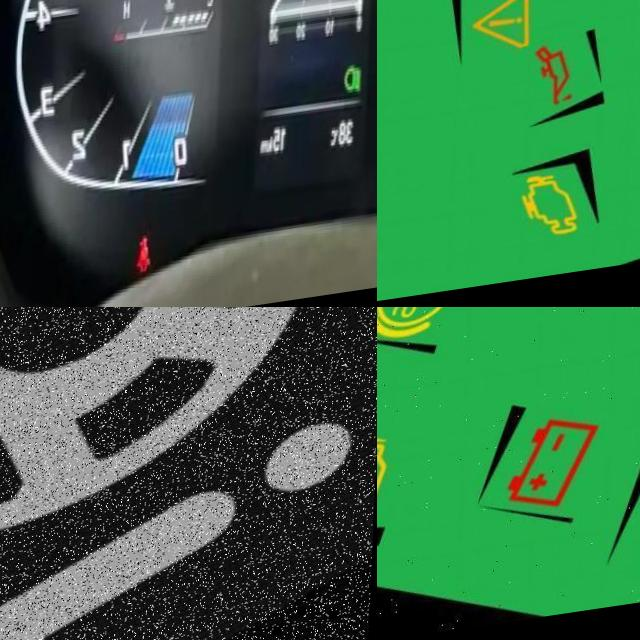Electronic Power Steering: (0, 307, 377, 640)
Seat Belt: (141, 241, 157, 277)
